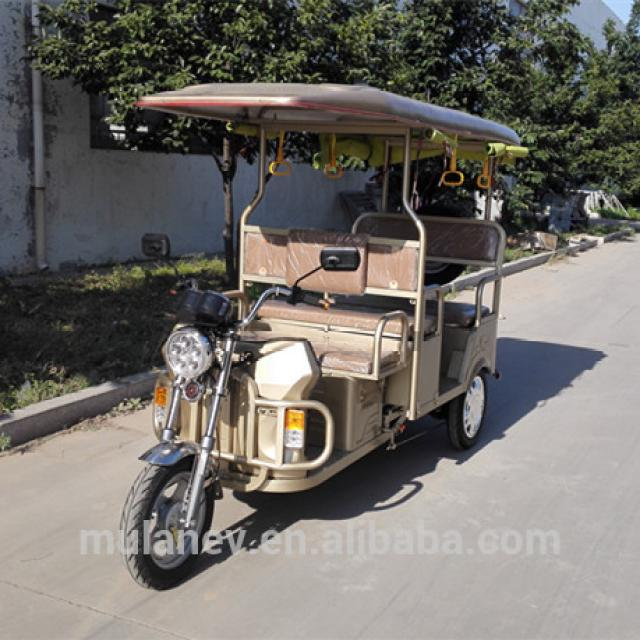motorcycle: (120, 83, 526, 587)
